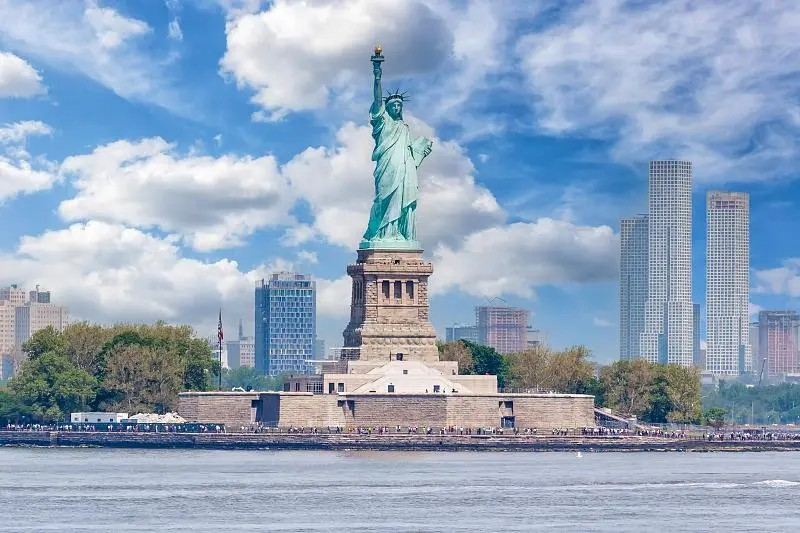SL: (342, 43, 437, 360)
